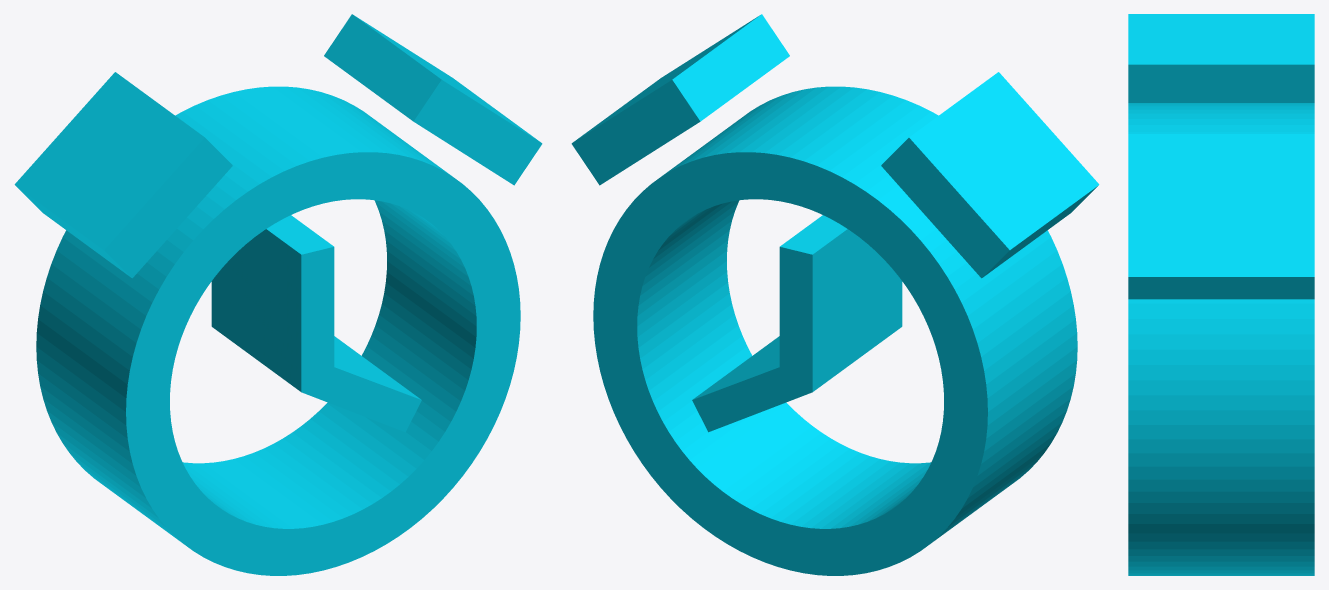
File: alarn.gltf
The picture shows the model from 3 angles, left to right: view 1: azimuth 30°, elevation 25°; view 2: azimuth 150°, elevation 25°; view 3: azimuth 270°, elevation 25°; orthographic projection. The views are drawn at different scales.
Visible parts, largest first — view 1: Alarm; view 2: Alarm; view 3: Alarm.
Boxes of the visible parts, <box> form: Alarm: <box>14,14,542,575</box>; Alarm: <box>571,14,1099,575</box>; Alarm: <box>1128,14,1314,575</box>.
Size of the model in its own units: 13.03 by 13.11 by 4.62.
